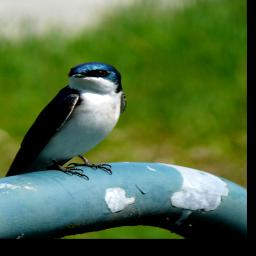Swallow: (6, 60, 130, 181)
